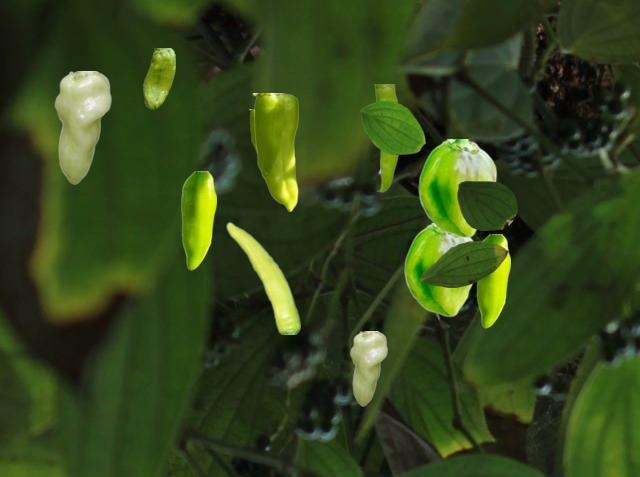green_chili: (226, 221, 299, 333), (418, 139, 496, 237), (404, 223, 473, 316), (54, 71, 110, 183), (252, 93, 297, 210), (181, 171, 215, 269), (476, 234, 509, 327), (349, 331, 386, 405), (374, 84, 399, 191), (143, 48, 174, 108), (249, 109, 255, 151)
